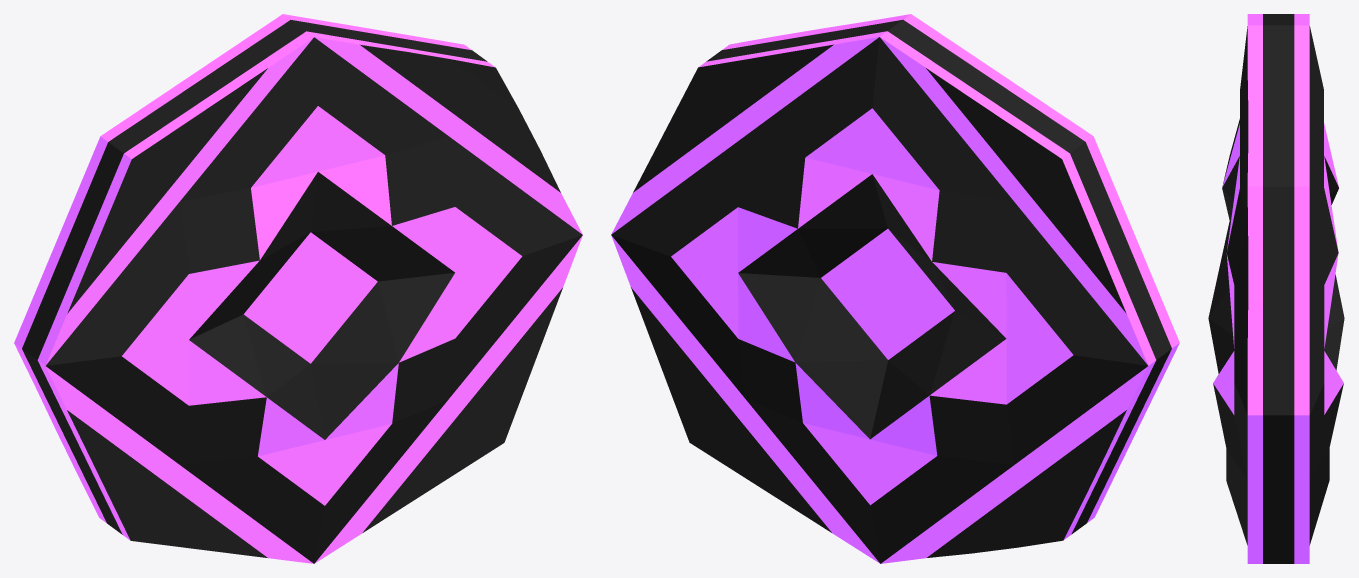
Rendered from purpleTablet.fbx.
3 views of the same model, side by side, from view 1: azimuth 30°, elevation 25°; view 2: azimuth 150°, elevation 25°; view 3: azimuth 270°, elevation 25° (orthographic).
Visible parts, largest first — view 1: Cube; view 2: Cube; view 3: Cube.
Part boxes in pixels (bbox=[...]): Cube: bbox=[14, 14, 582, 563]; Cube: bbox=[611, 14, 1179, 563]; Cube: bbox=[1208, 14, 1344, 563].
Size of the model in its own units: 146 by 137 by 32.47.
